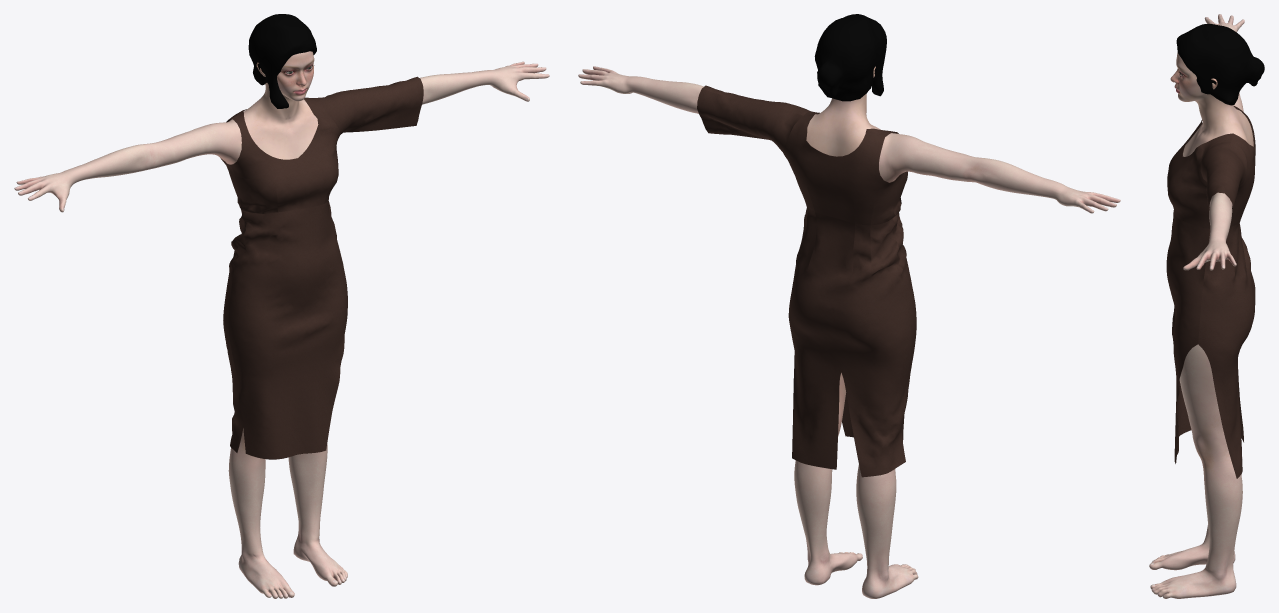
Rendered from random.obj.
3 views of the same model, side by side, from view 1: azimuth 30°, elevation 25°; view 2: azimuth 150°, elevation 25°; view 3: azimuth 270°, elevation 25° (orthographic). The views are drawn at different scales.
Size of the model in its own units: 1745 by 1761 by 333.
